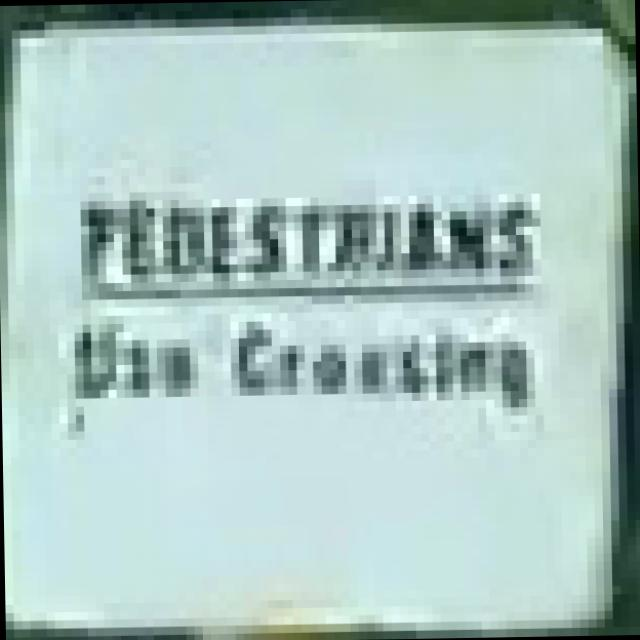pedestriancrossing_sign: (0, 3, 637, 637), (63, 177, 543, 415), (72, 176, 540, 292), (66, 308, 534, 415)
